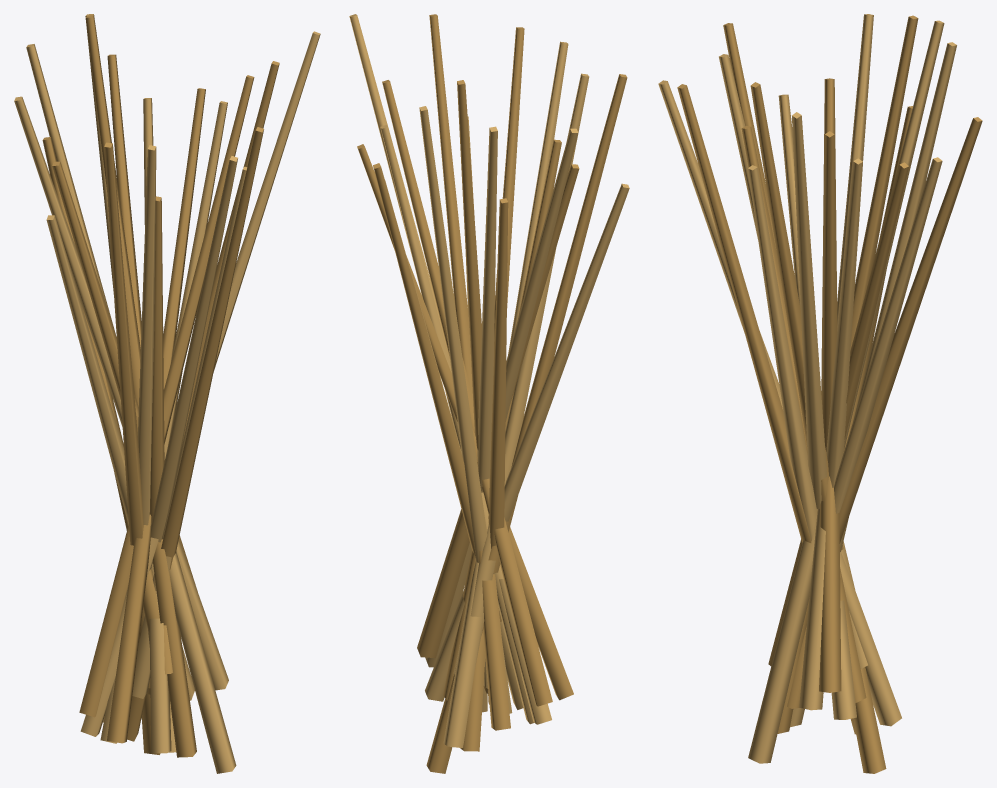
The model's file is pelos-choclo.glb.
The picture shows the model from 3 angles, left to right: view 1: azimuth 30°, elevation 25°; view 2: azimuth 150°, elevation 25°; view 3: azimuth 270°, elevation 25°; orthographic projection. The views are drawn at different scales.
Parts seen in each view (by area): view 1: pelo7, pelo5, pelo11, pelo12, pelo1, pelo17, pelo14, pelo0, pelo4, pelo18, pelo16, pelo19 (+8 smaller); view 2: pelo3, pelo5, pelo16, pelo17, pelo10, pelo0, pelo12, pelo13, pelo9, pelo14, pelo7, pelo15 (+7 smaller); view 3: pelo12, pelo1, pelo4, pelo9, pelo2, pelo14, pelo8, pelo0, pelo15, pelo11, pelo6, pelo3 (+8 smaller).
Part boxes in pixels (x1,y1,x2,y2): pelo7: [107, 88, 205, 743]; pelo5: [79, 75, 254, 717]; pelo11: [85, 15, 196, 757]; pelo12: [26, 44, 236, 773]; pelo1: [127, 127, 263, 741]; pelo17: [104, 142, 160, 754]; pelo14: [14, 96, 228, 690]; pelo0: [150, 156, 237, 542]; pelo4: [80, 31, 320, 736]; pelo18: [138, 145, 156, 525]; pelo16: [46, 215, 194, 700]; pelo19: [146, 196, 164, 694]; pelo3: [429, 14, 510, 730]; pelo5: [382, 80, 552, 706]; pelo16: [425, 183, 629, 701]; pelo17: [426, 74, 627, 773]; pelo10: [419, 106, 512, 713]; pelo0: [443, 41, 568, 747]; pelo12: [477, 126, 497, 712]; pelo13: [483, 198, 508, 693]; pelo9: [373, 163, 475, 557]; pelo14: [425, 128, 578, 667]; pelo7: [357, 144, 573, 700]; pelo15: [417, 164, 579, 658]; pelo12: [748, 20, 944, 763]; pelo1: [677, 84, 856, 734]; pelo4: [792, 112, 827, 508]; pelo9: [807, 117, 982, 610]; pelo2: [747, 165, 817, 540]; pelo14: [799, 14, 873, 710]; pelo8: [834, 157, 942, 513]; pelo0: [658, 80, 901, 726]; pelo15: [819, 78, 841, 692]; pelo11: [777, 15, 918, 733]; pelo6: [826, 158, 862, 487]; pelo3: [750, 82, 843, 549].
Size of the model in its own units: 0.3909 by 0.9739 by 0.3899.
